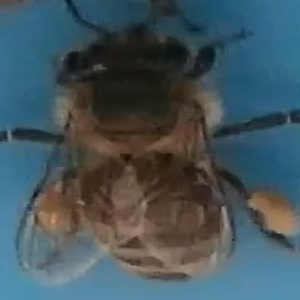bee: (38, 5, 293, 292)
